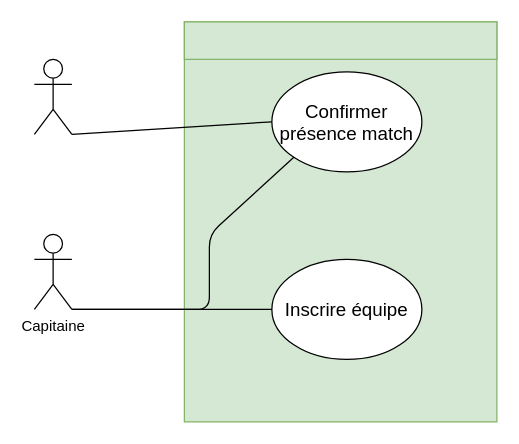
Image size: 519x444. Some labels were removed from this diagram. Each missing label, with the centre of its shape:
Joueur: point (52, 96)
projet de gestion de rencontres sportives: point (340, 40)
